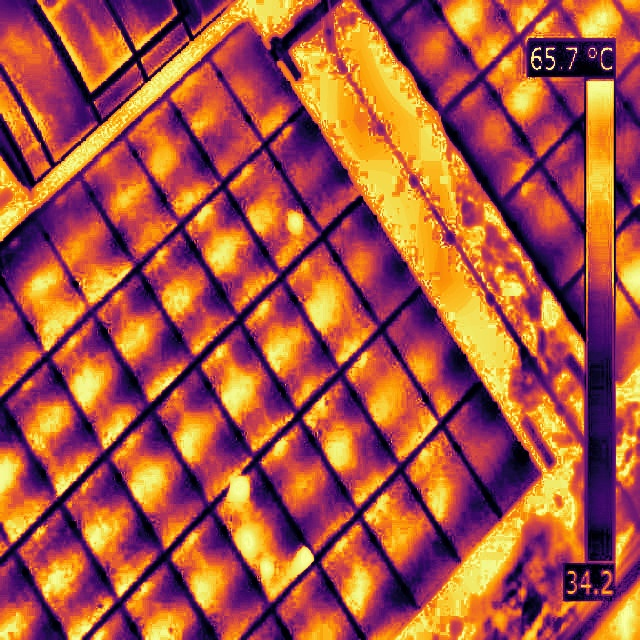Hotspot: (231, 477, 246, 497), (289, 212, 303, 231), (242, 529, 254, 551), (298, 548, 311, 566), (260, 562, 271, 574)
Moderate-Critical: (231, 477, 246, 497), (289, 212, 303, 231), (242, 529, 254, 551), (298, 548, 311, 566), (262, 562, 271, 574)
